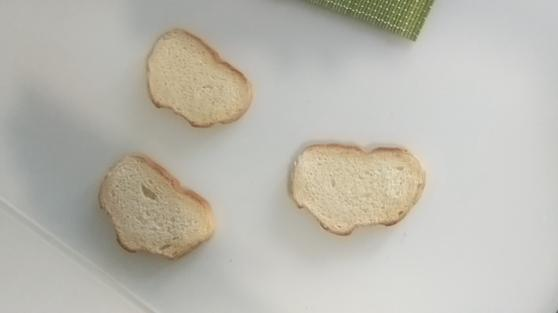white_bread: (288, 141, 428, 234), (97, 152, 218, 256), (143, 26, 254, 130)
